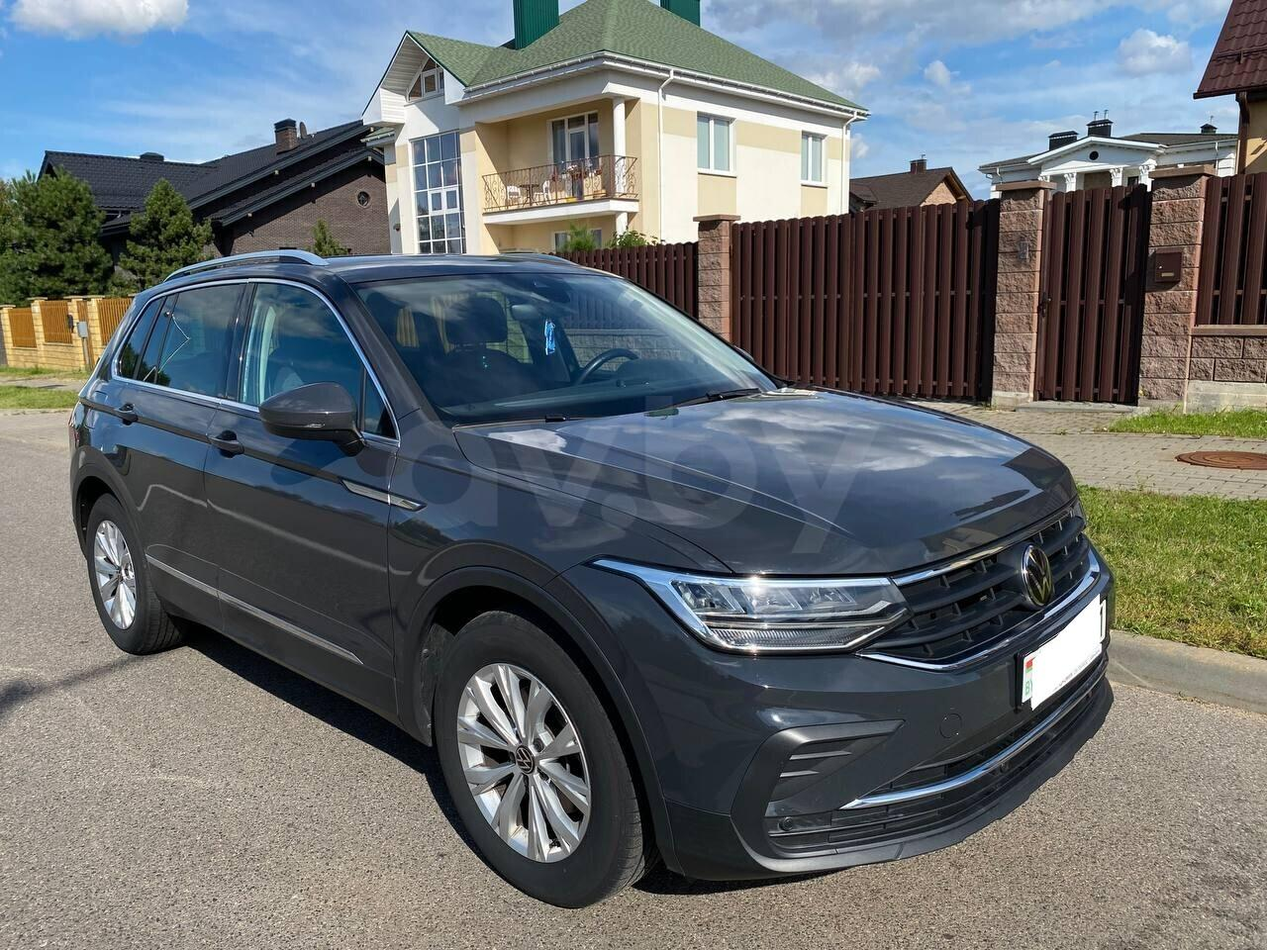Tiguan_2020-2024: (62, 254, 1119, 903)
